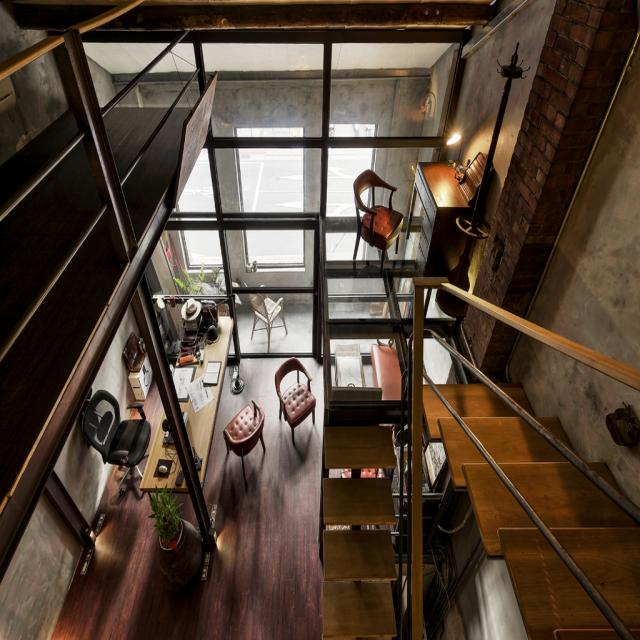chair: (81, 388, 151, 498), (352, 168, 403, 293), (275, 357, 317, 448), (250, 293, 288, 348)
desk: (139, 318, 234, 523)
